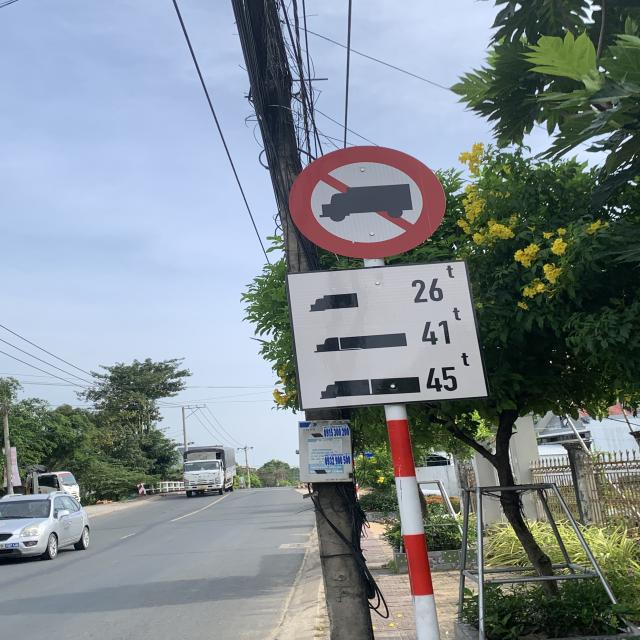Cam_Xe_Tai: (289, 146, 445, 258)
